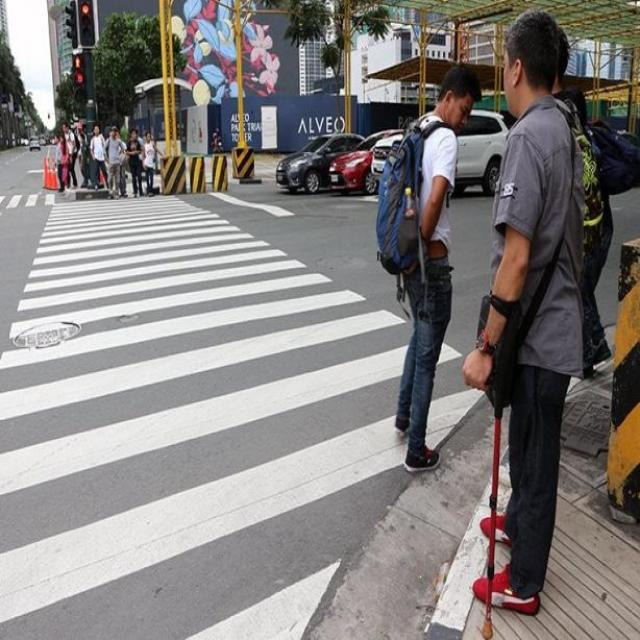pedestrian lane: (0, 196, 484, 640), (0, 193, 54, 208)
